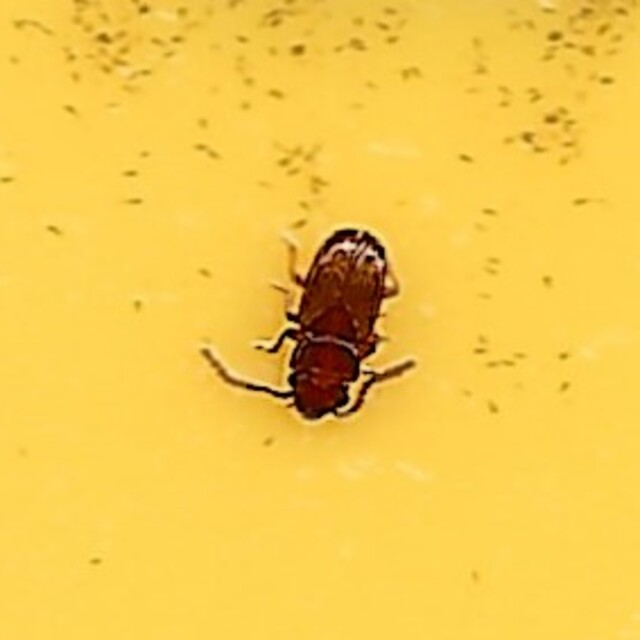Coleoptera: (226, 211, 414, 429)
